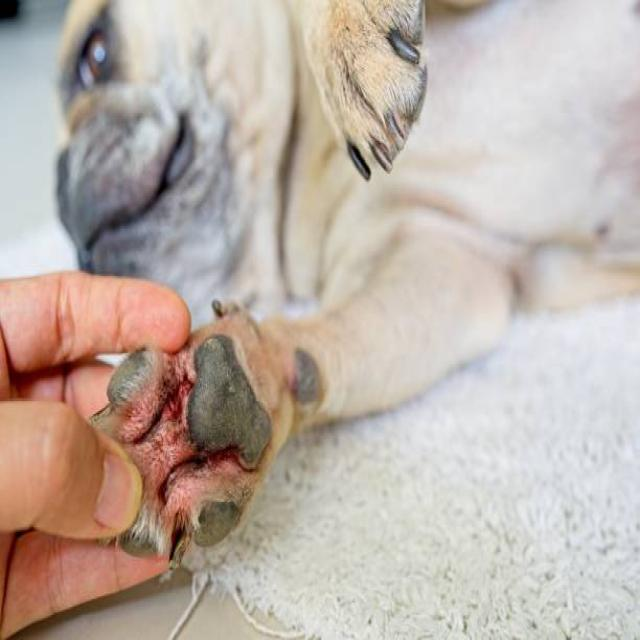fungal infection: (145, 358, 242, 501), (273, 344, 328, 407), (126, 397, 158, 445), (166, 506, 199, 542)
